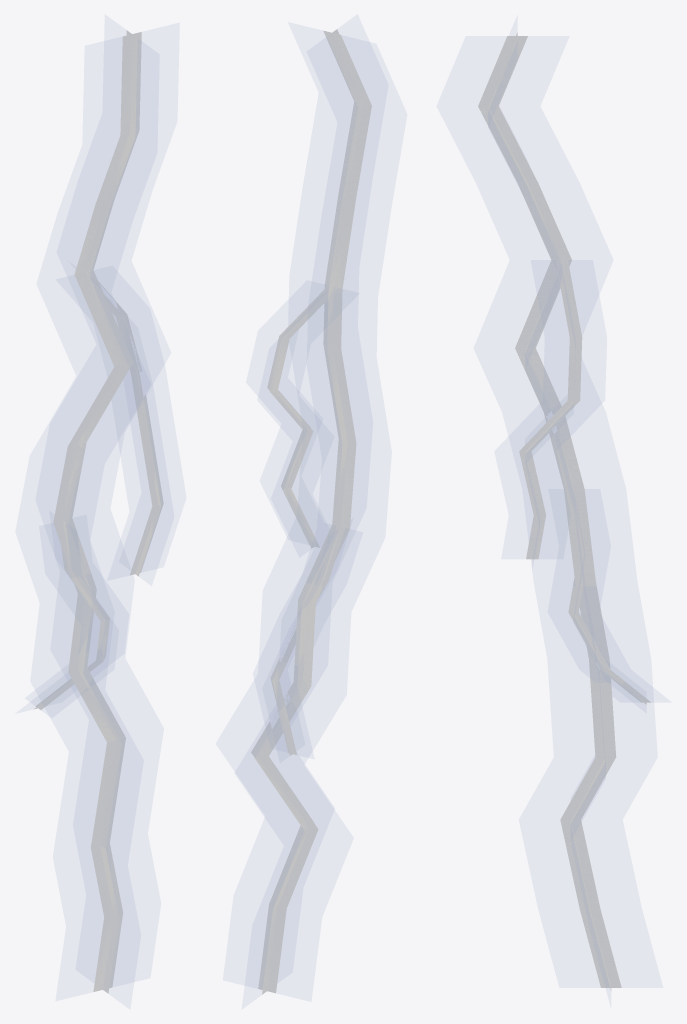
File: bolt.glb
3 renders of one model, left to right at view 1: azimuth 30°, elevation 25°; view 2: azimuth 150°, elevation 25°; view 3: azimuth 270°, elevation 25°, orthographic. The views are drawn at different scales.
Visible parts, largest first — view 1: bolt; view 2: bolt; view 3: bolt.
Part boxes in pixels (<box>): bolt: <box>16,15,185,1008</box>; bolt: <box>216,14,406,1008</box>; bolt: <box>437,17,670,1005</box>.
Bounding box in the file's own units: 0.1739 × 1 × 0.2271.
